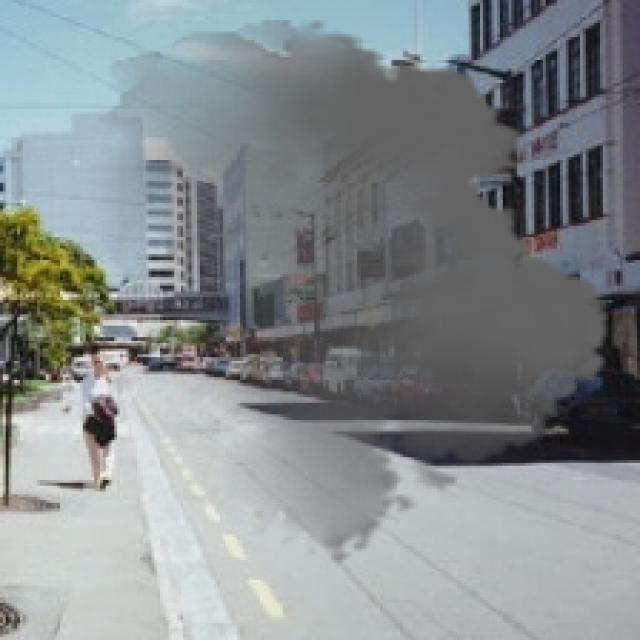Smoke: (80, 20, 629, 566)
